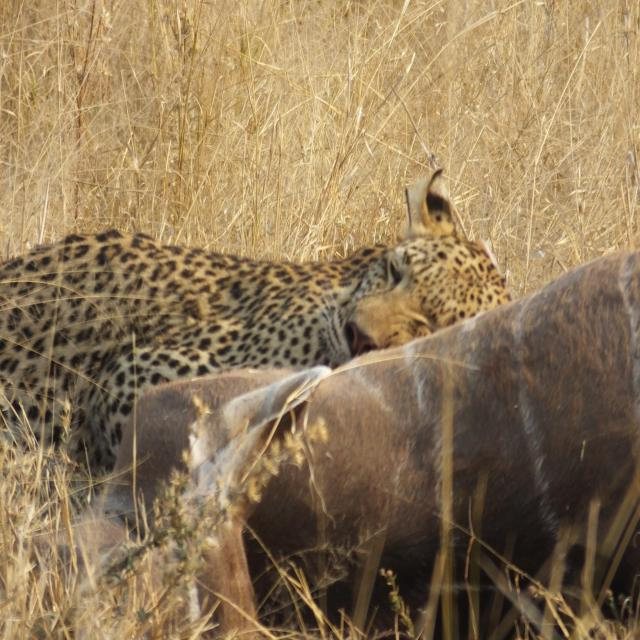Leopard: (0, 161, 525, 485)
